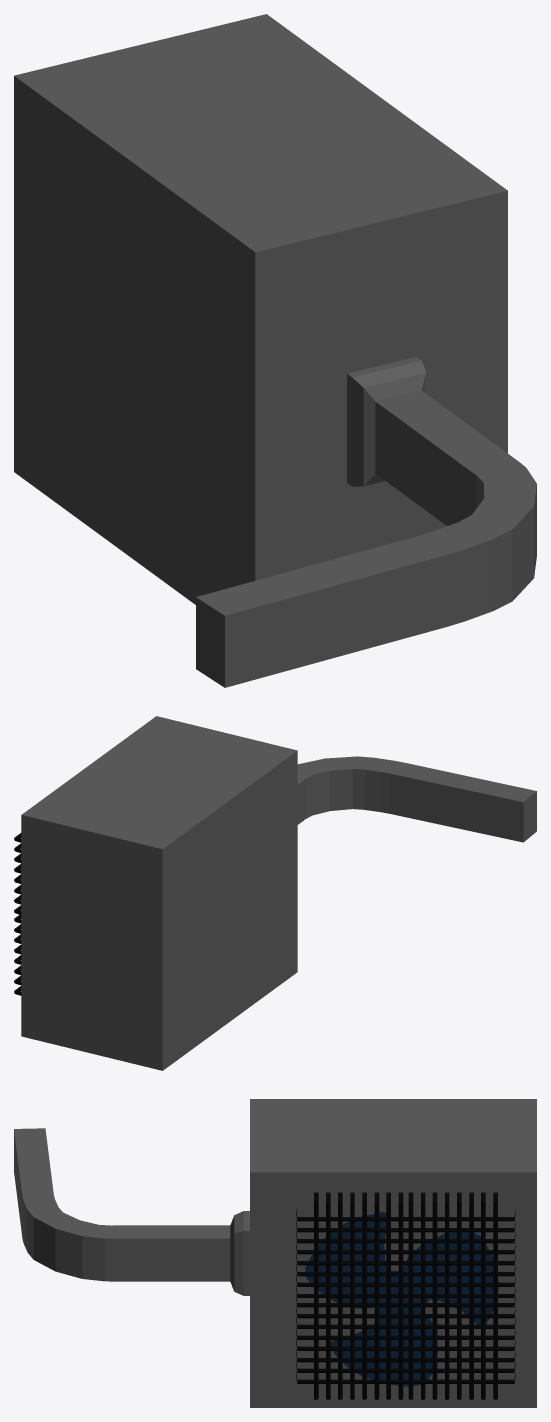
The model's file is AC_com_Animac.fbx.
3 views of the same model, one above another, from view 1: azimuth 30°, elevation 25°; view 2: azimuth 150°, elevation 25°; view 3: azimuth 270°, elevation 25° (orthographic). The views are drawn at different scales.
Visible parts, largest first — view 1: Cube; view 2: Cube, Grade; view 3: Cube, Grade, Helice.
Boxes of the visible parts, x1,y1,x2,y2 form: Cube: [14, 14, 536, 687]; Cube: [21, 716, 536, 1070]; Grade: [14, 833, 21, 995]; Cube: [14, 1099, 536, 1407]; Grade: [296, 1192, 515, 1399]; Helice: [305, 1212, 498, 1386].
Size of the model in its own units: 273 by 200 by 403.
